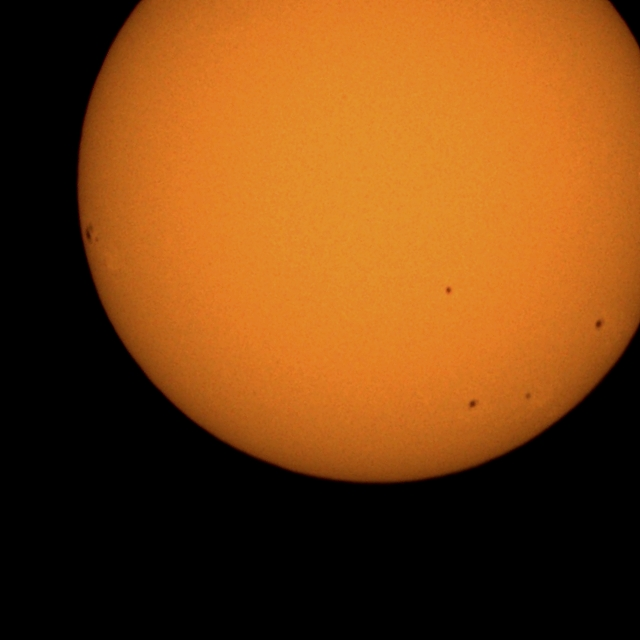sunspot: (83, 222, 100, 246), (466, 398, 480, 411), (594, 318, 604, 331), (523, 390, 534, 401), (444, 285, 453, 296)
